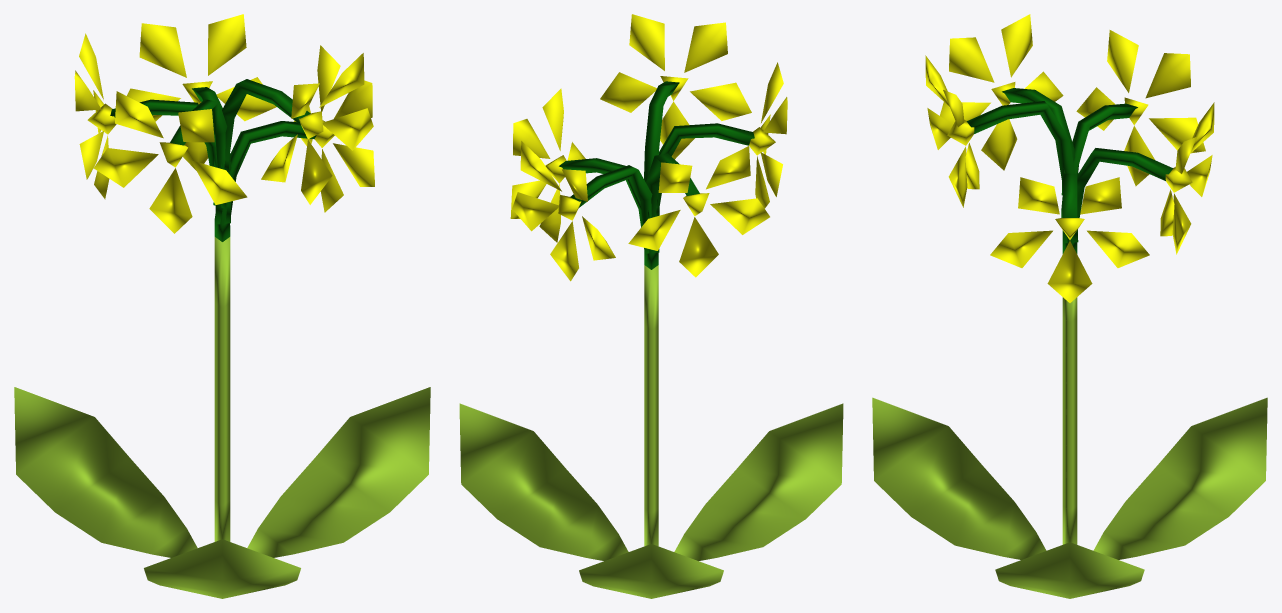
File: primrose_0001.obj
3 renders of one model, left to right at view 1: azimuth 30°, elevation 25°; view 2: azimuth 150°, elevation 25°; view 3: azimuth 270°, elevation 25°, orthographic. The views are drawn at different scales.
Visible parts, largest first — view 1: primrose_0001; view 2: primrose_0001; view 3: primrose_0001.
Boxes of the visible parts, x1,y1,x2,y2 form: primrose_0001: [14, 14, 430, 598]; primrose_0001: [459, 14, 843, 598]; primrose_0001: [872, 14, 1267, 598].
Bounding box in the file's own units: 2.23 × 3.27 × 2.29.
1 material, 1 textured.
